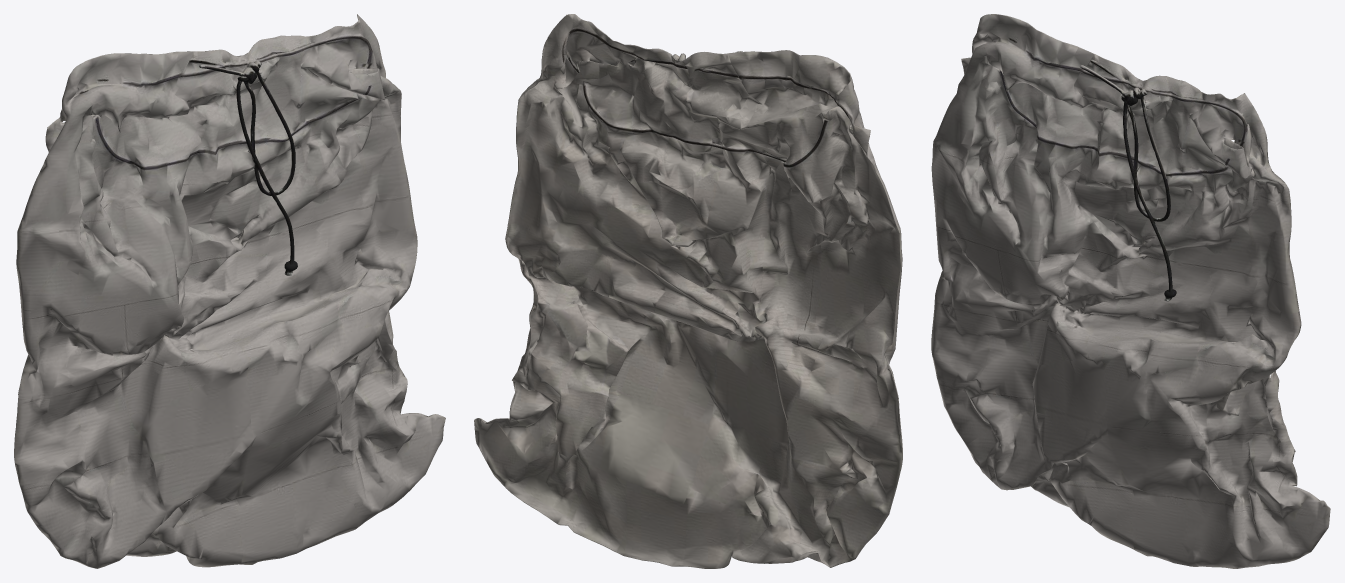
Rendered from tangled.glb.
The picture shows the model from 3 angles, left to right: view 1: azimuth 30°, elevation 25°; view 2: azimuth 150°, elevation 25°; view 3: azimuth 330°, elevation 25°; orthographic projection. The views are drawn at different scales.
Bounding box in the file's own units: 1.56 × 1.9 × 0.2237.
Materials: 1 (1 with a texture image).
